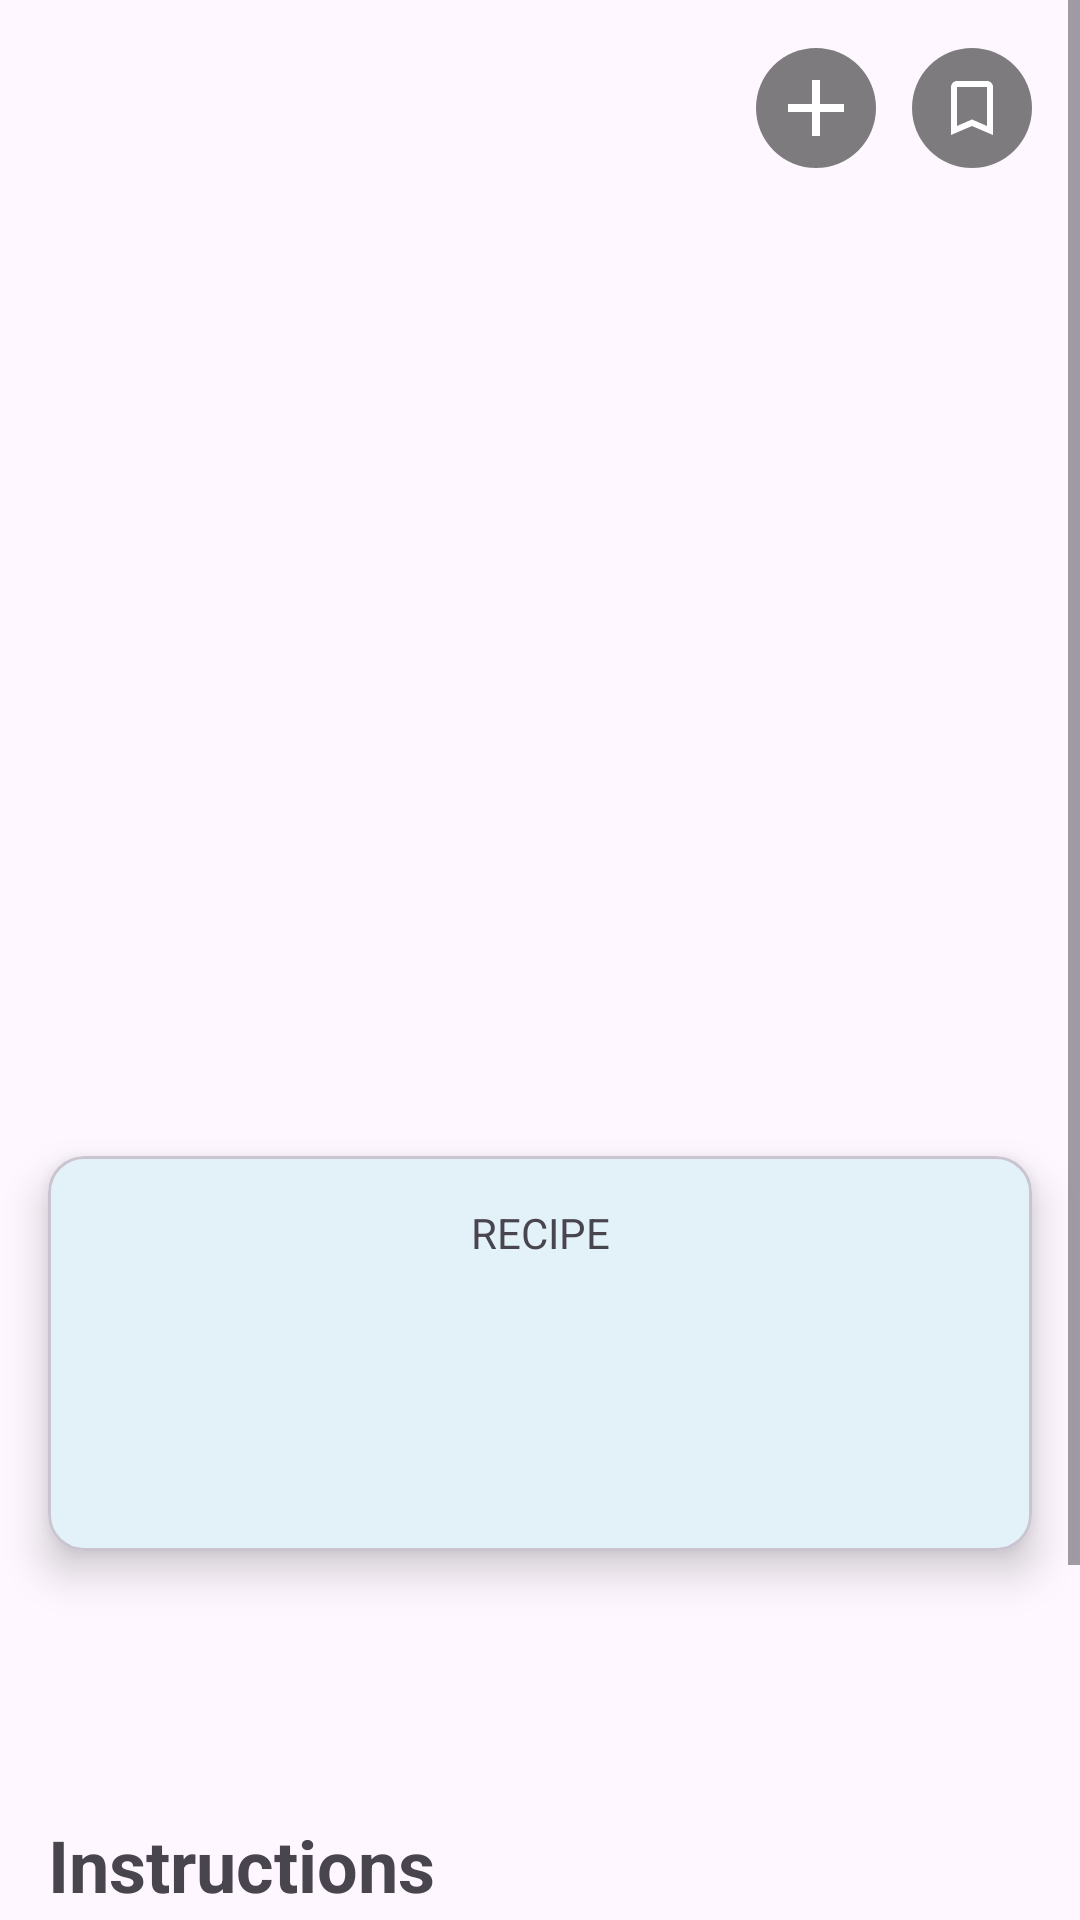

Point at icon controls on the screen. Image size 1080w x 1920h, points as (x,y).
add: (816,108)
